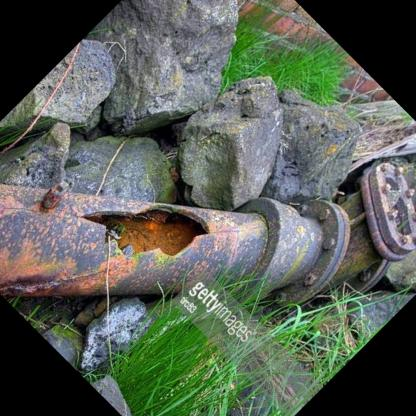burst: (76, 199, 211, 256)
